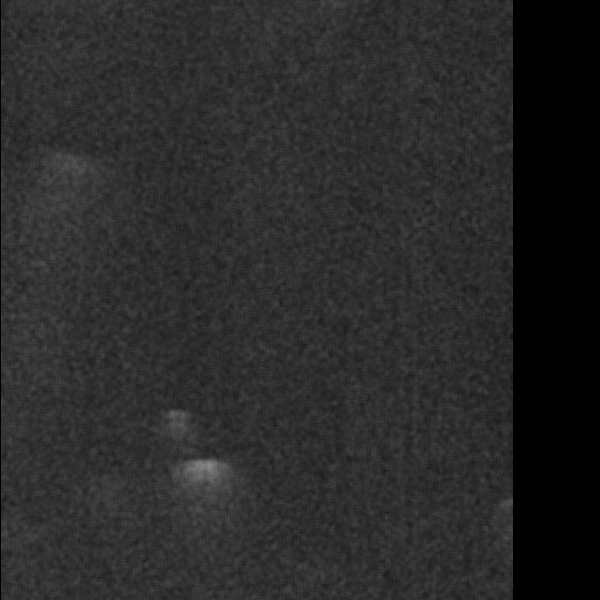spark: (30, 147, 94, 249), (165, 456, 233, 494), (159, 406, 188, 454), (178, 499, 211, 521)
